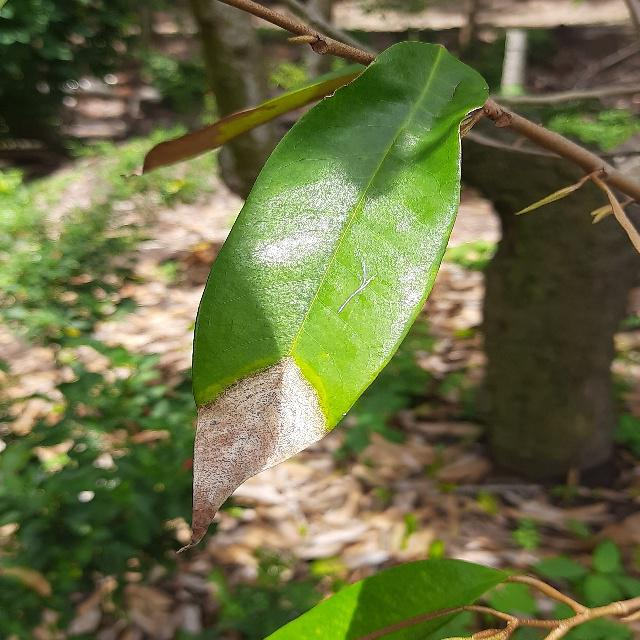Leaf Blight: (183, 31, 503, 556)
